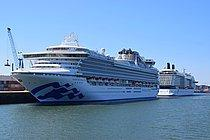Ship: (9, 30, 163, 107), (157, 62, 202, 100)
